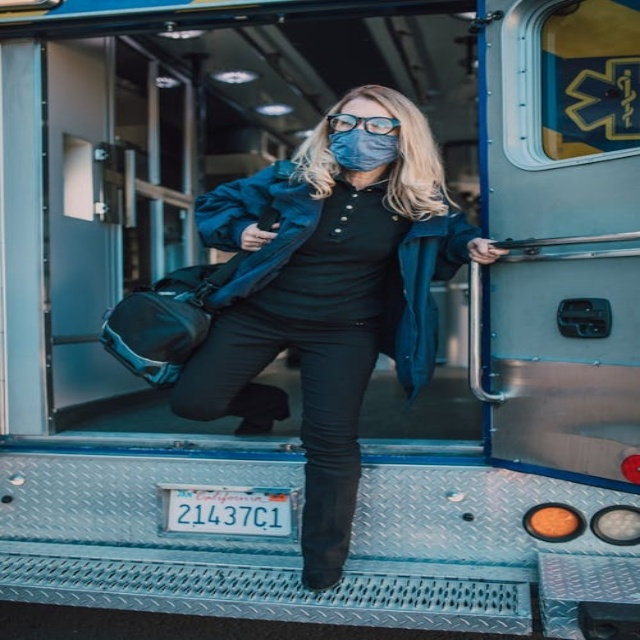Gafas: (327, 114, 402, 135)
Mascara: (328, 126, 400, 171)
Sin_guantes: (230, 216, 287, 257), (454, 231, 509, 265)
